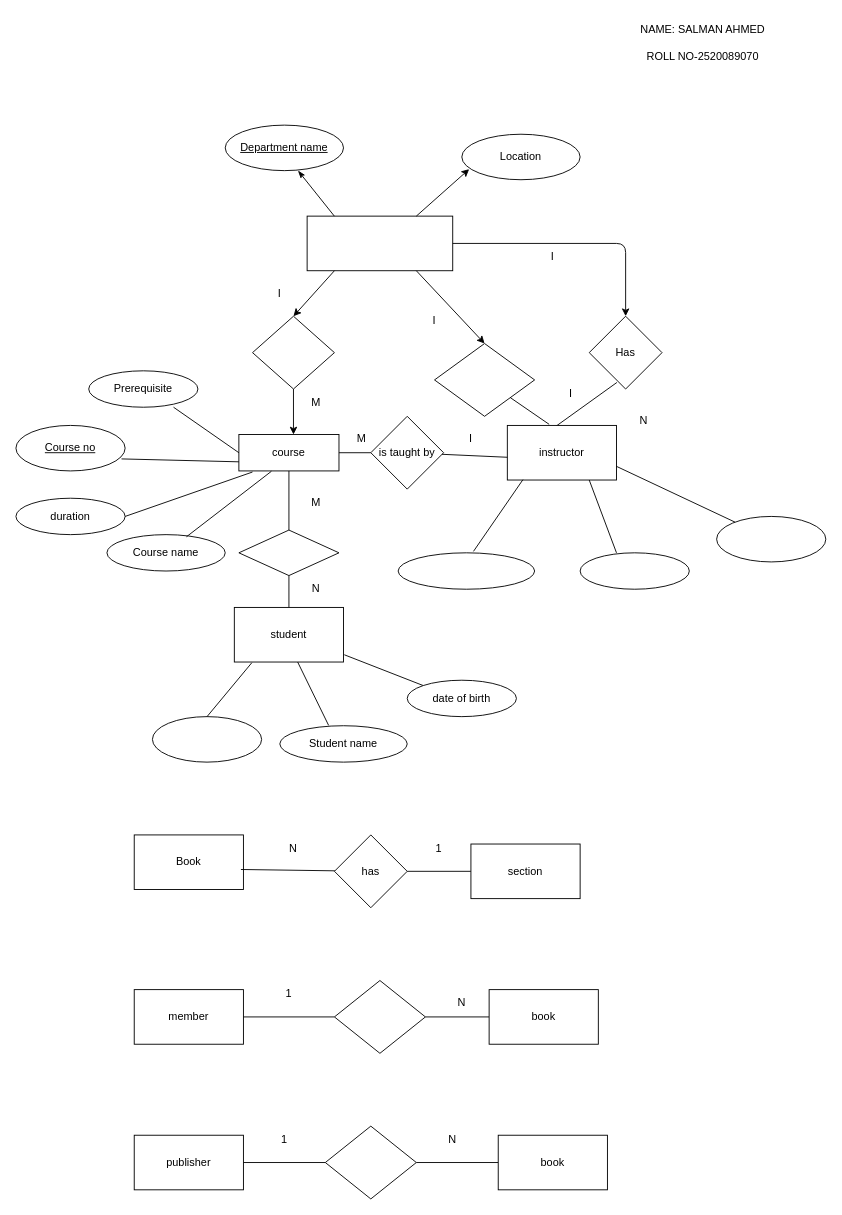
This 842x1215 diagram has some shape labels left out. The shapes that lost their labels are listed below. From the top down, each one's box as (x1, y1, x2, y2) in pixels, then its label:
(306, 215, 453, 271): Department
(252, 315, 334, 389): offers
(434, 343, 535, 416): Headed by
(238, 529, 339, 576): annoted by
(716, 516, 826, 562): room no
(397, 552, 535, 589): Instructor name
(579, 552, 689, 589): telephone
(152, 716, 262, 762): student no
(334, 980, 425, 1053): borrows
(324, 1125, 416, 1199): supplies
